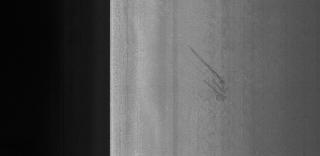silk spot: (240, 18, 314, 130)
water spot: (188, 46, 234, 105)
